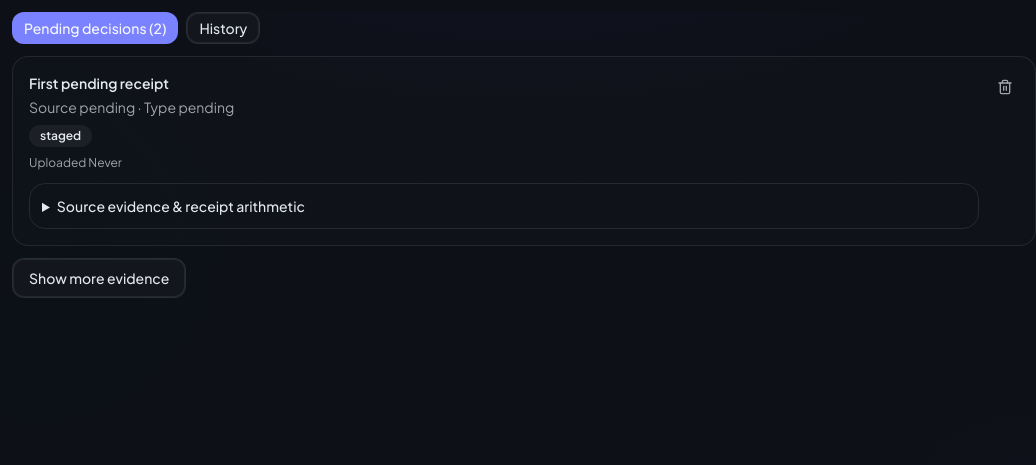
Scenario: uses the full pending count and loads older pages without turning an error into all-clear
The width and height of the screenshot is (1036, 465).
Check: the button "Pending decisions (2)" is shown, box [12,12,178,44]
Click the button "Show more evidence" at coordinates (99, 278), box [12,258,186,298]
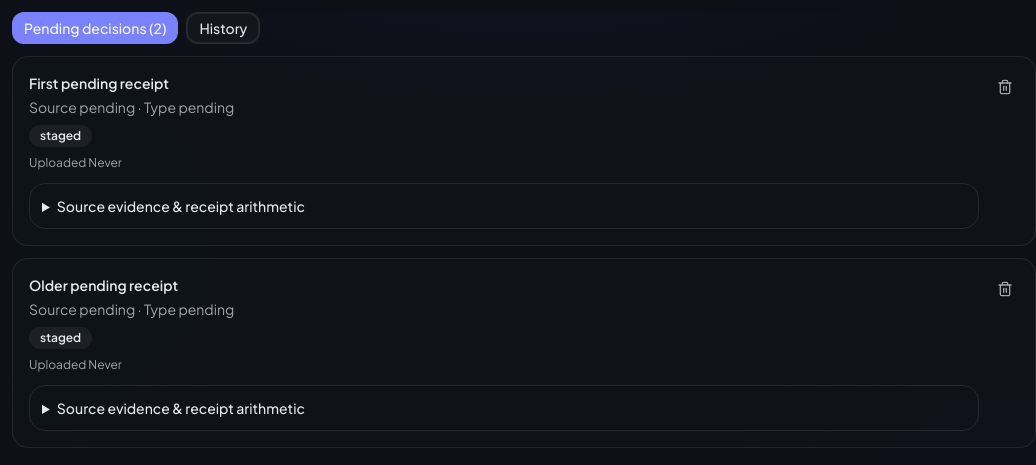
Check: the text "Older pending receipt" is shown, box [29,276,178,294]
